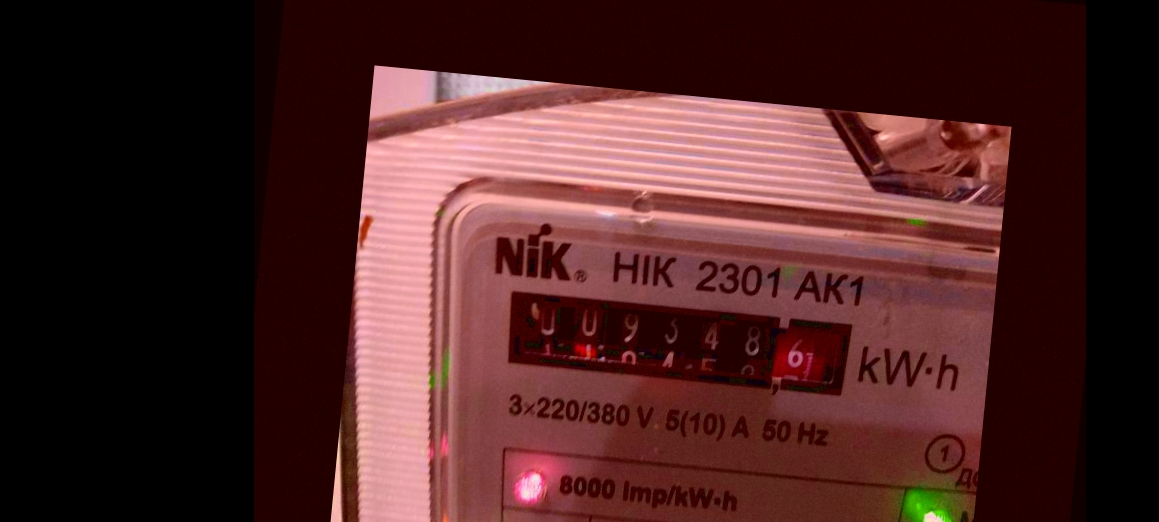0: (577, 302, 601, 340), (536, 300, 559, 337)
3: (659, 311, 684, 345)
4: (698, 315, 722, 354)
6: (784, 333, 809, 369)
8: (741, 321, 764, 357)
9: (620, 307, 641, 343)
screen: (480, 273, 873, 412)
